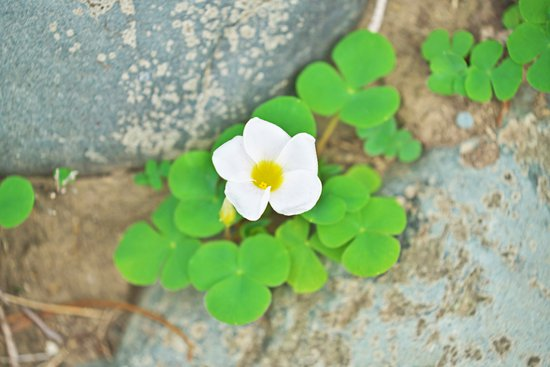oxalis: (136, 96, 414, 331), (292, 33, 415, 137), (403, 13, 550, 100)
